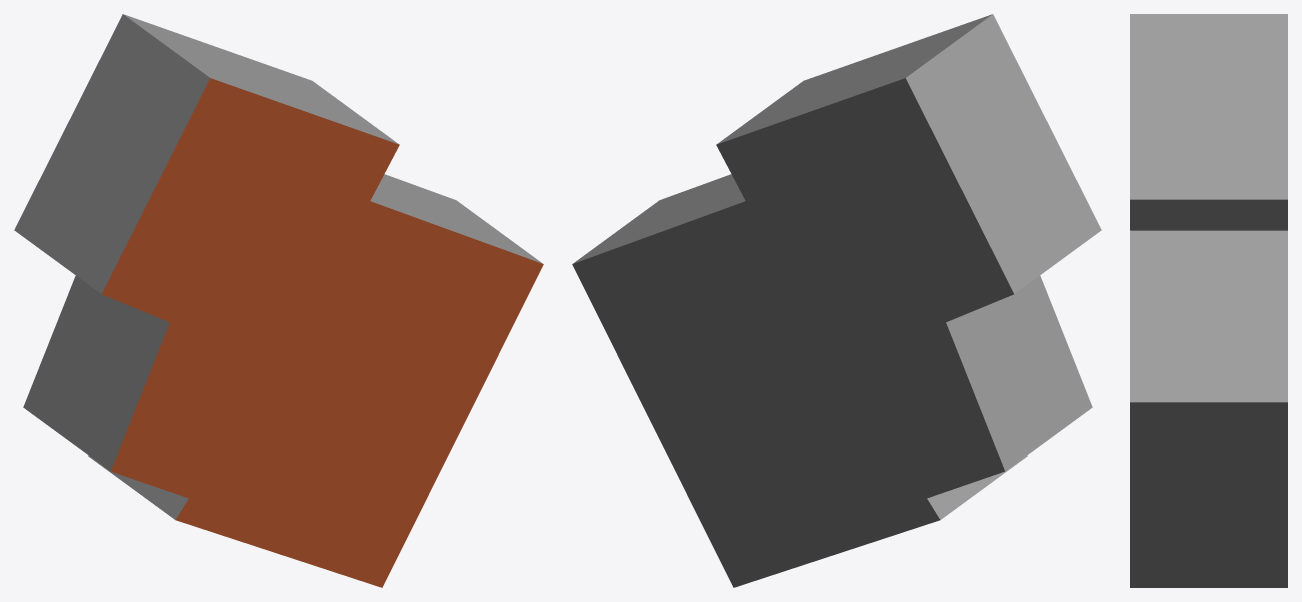
File: construction_3458_assumed_A_Casa_h6m.obj
3 renders of one model, left to right at view 1: azimuth 30°, elevation 25°; view 2: azimuth 150°, elevation 25°; view 3: azimuth 270°, elevation 25°, orthographic. The views are drawn at different scales.
Visible parts, largest first — view 1: construction_3458_assumed_A_Casa; view 2: construction_3458_assumed_A_Casa; view 3: construction_3458_assumed_A_Casa.
Boxes of the visible parts, bbox=[...] form: construction_3458_assumed_A_Casa: bbox=[14, 14, 543, 587]; construction_3458_assumed_A_Casa: bbox=[572, 14, 1101, 587]; construction_3458_assumed_A_Casa: bbox=[1130, 14, 1287, 587].
Bounding box in the file's own units: 17.51 × 20.88 × 6.
